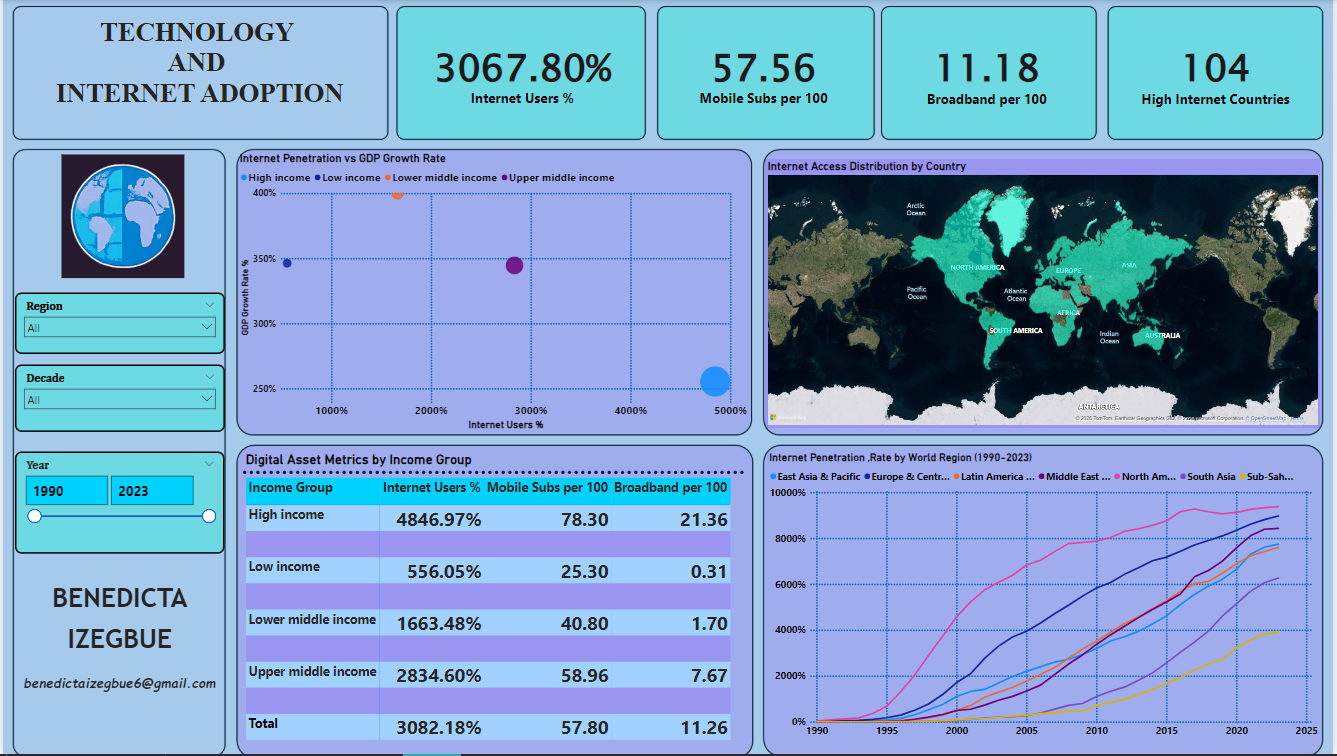

This screenshot's page, from the dashboard's own definition file:
{"tool":"powerbi","page":{"name":"Technology Adoption","canvas":[2397,1358],"ordinal":1},"visuals":[{"type":"card","fields":{"Values":["_Measures.Internet Users %"]},"box":[714.8,24.5,438.7,214.7],"z":0},{"type":"card","fields":{"Values":["_Measures.Mobile Subs per 100"]},"box":[1178.1,24.5,383.5,214.7],"z":1000},{"type":"card","fields":{"Values":["_Measures.Broadband per 100"]},"box":[1583,27.6,377.3,211.7],"z":2000},{"type":"card","fields":{"Values":["_Measures.High Internet Countries"]},"box":[1997.2,27.6,374.3,211.7],"z":3000},{"type":"lineChart","title":"Internet Penetration ,Rate by World Region (1990-2023)","fields":{"Category":["DIM_Date.Year"],"Y":["_Measures.Internet Users %"],"Series":["DIM_Country.Region"]},"box":[1369.7,813.2,996.9,524.1],"z":4000},{"type":"pivotTable","title":"Digital Asset Metrics by Income Group","fields":{"Rows":["DIM_Country.Income Group"],"Values":["_Measures.Internet Users %","_Measures.Mobile Subs per 100","_Measures.Broadband per 100"]},"box":[432.6,813,901.9,524.6],"z":5000},{"type":"filledMap","title":"Internet Access Distribution by Country","fields":{"Category":["DIM_Country.CountryName"]},"box":[1371.3,285.3,1000.1,484.7],"z":6000},{"type":"scatterChart","title":"Internet Penetration vs GDP Growth Rate ","fields":{"X":["_Measures.Internet Users %"],"Y":["_Measures.GDP Growth Rate %"],"Series":["DIM_Country.Income Group"],"Size":["_Measures.GDP per Capital PPP"]},"box":[420.3,273,923.4,506.2],"z":7000},{"type":"textbox","box":[21.5,24.5,665.7,214.7],"z":8000},{"type":"slicer","fields":{"Values":["DIM_Country.Region"]},"box":[21.6,526.8,378.2,110.8],"z":9000},{"type":"slicer","fields":{"Values":["FACT_WDI_Unpivoted.Decade"]},"box":[21.6,656.5,378.2,121.6],"z":10000},{"type":"slicer","fields":{"Values":["DIM_Date.Year"]},"box":[21.5,813,377.3,184.1],"z":11000},{"type":"textbox","box":[21.5,1024.7,377.3,312.9],"z":12000},{"type":"image","box":[0,273,432.6,233.2],"z":12002}]}

Visuals, with their boxes in screenshot pixels (x1, y1, x2, y2), scaled from the page's 2397x1358 canvas onto the 1337x756 screenshot:
card - _Measures.Internet Users %: 399:14:643:133
card - _Measures.Mobile Subs per 100: 657:14:871:133
card - _Measures.Broadband per 100: 883:15:1093:133
card - _Measures.High Internet Countries: 1114:15:1323:133
"Internet Penetration ,Rate by World Region (1990-2023)" lineChart: 764:453:1320:744
"Digital Asset Metrics by Income Group" pivotTable: 241:453:744:745
"Internet Access Distribution by Country" filledMap: 765:159:1323:429
"Internet Penetration vs GDP Growth Rate " scatterChart: 234:152:749:434
textbox: 12:14:383:133
slicer - DIM_Country.Region: 12:293:223:355
slicer - FACT_WDI_Unpivoted.Decade: 12:365:223:433
slicer - DIM_Date.Year: 12:453:222:555
textbox: 12:570:222:745
image: 0:152:241:282
